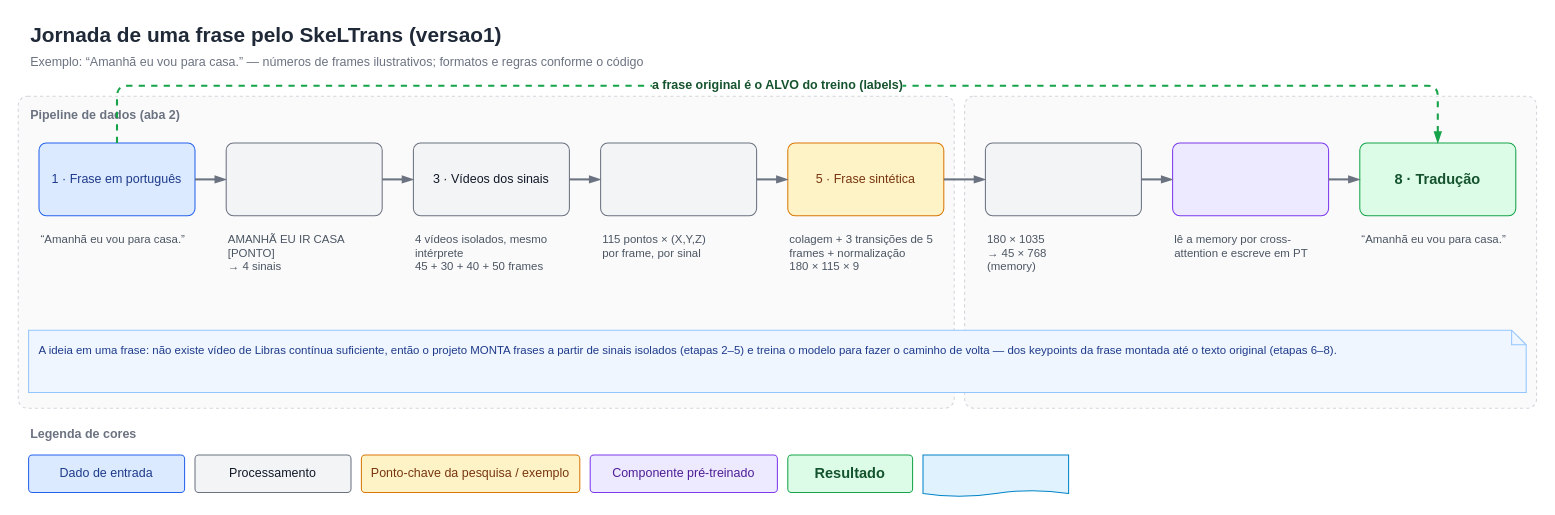
The diagram is 1555 pixels wide and 515 high, and some of its shapes have lost their labels. Here are the shapes that lost their labels. From the top down, the box of each, then its label:
(225, 142, 382, 216): 2 · Glosas em Libras
(600, 142, 757, 216): 4 · Keypoints (MediaPipe)
(984, 142, 1141, 216): 6 · LandmarkEncoder
(1172, 142, 1329, 216): 7 · Decoder PTT5
(964, 95, 1537, 408): Modelo SLT (aba 3)
(922, 454, 1069, 497): Arquivo / tensor
